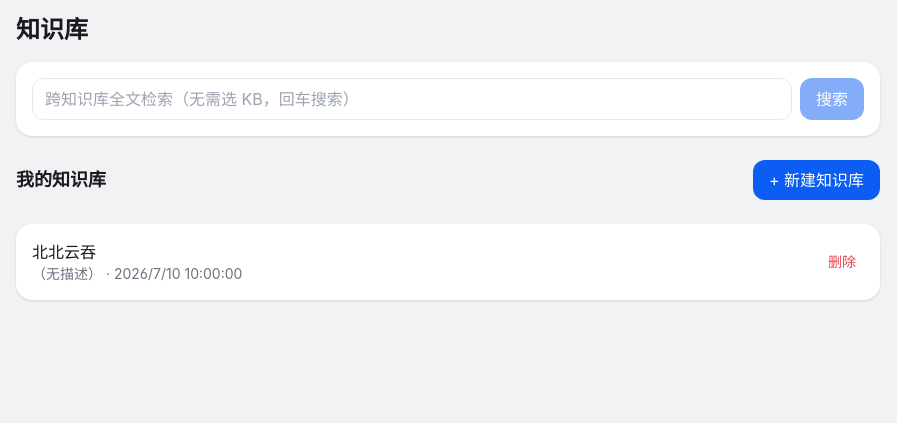
KnowledgeList — global cross-KB search (v0.6 P1.3) › renders hits with KB name badge + source document filename
In the search field with placeholder "跨知识库全文检索（无需选 KB，回车搜索）": {"x": 412, "y": 99} left=32, top=78, right=792, bottom=120, type "陈皮马蹄"
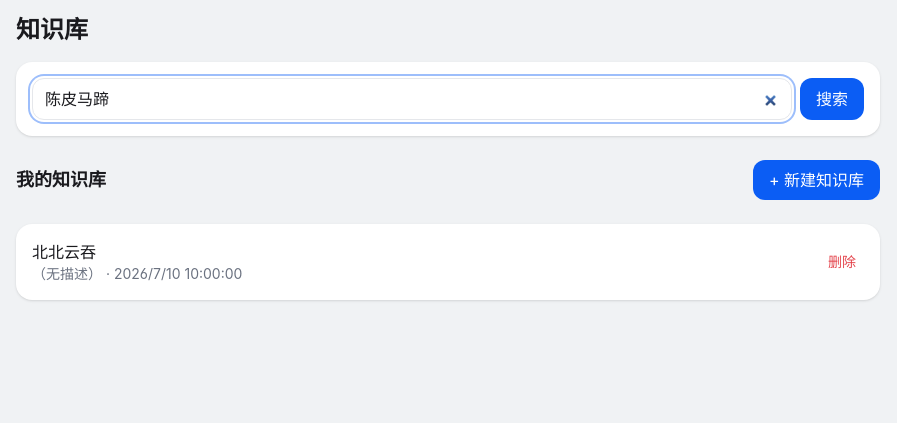
Press Enter
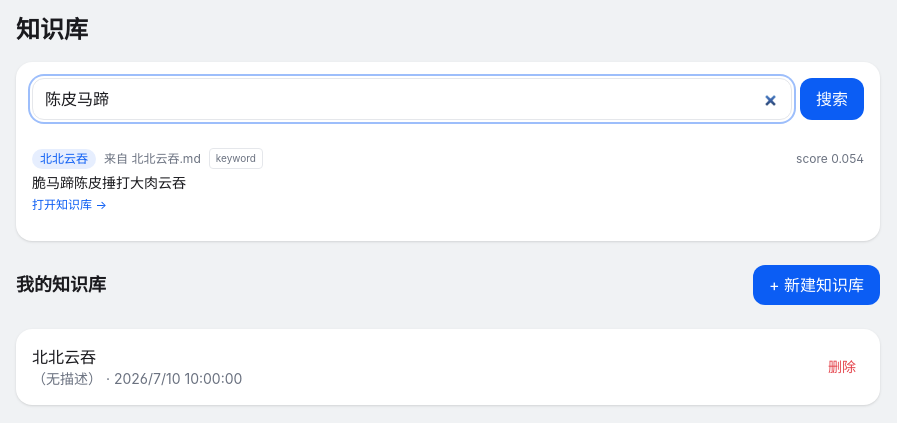
Now the number of list items with test id "global-search-hit" is 1, box left=32, top=136, right=864, bottom=225
Now the text "北北云吞" next to "来自" is shown, box left=40, top=150, right=88, bottom=166
Now the text "来自 北北云吞.md" is shown, box left=104, top=150, right=201, bottom=166
